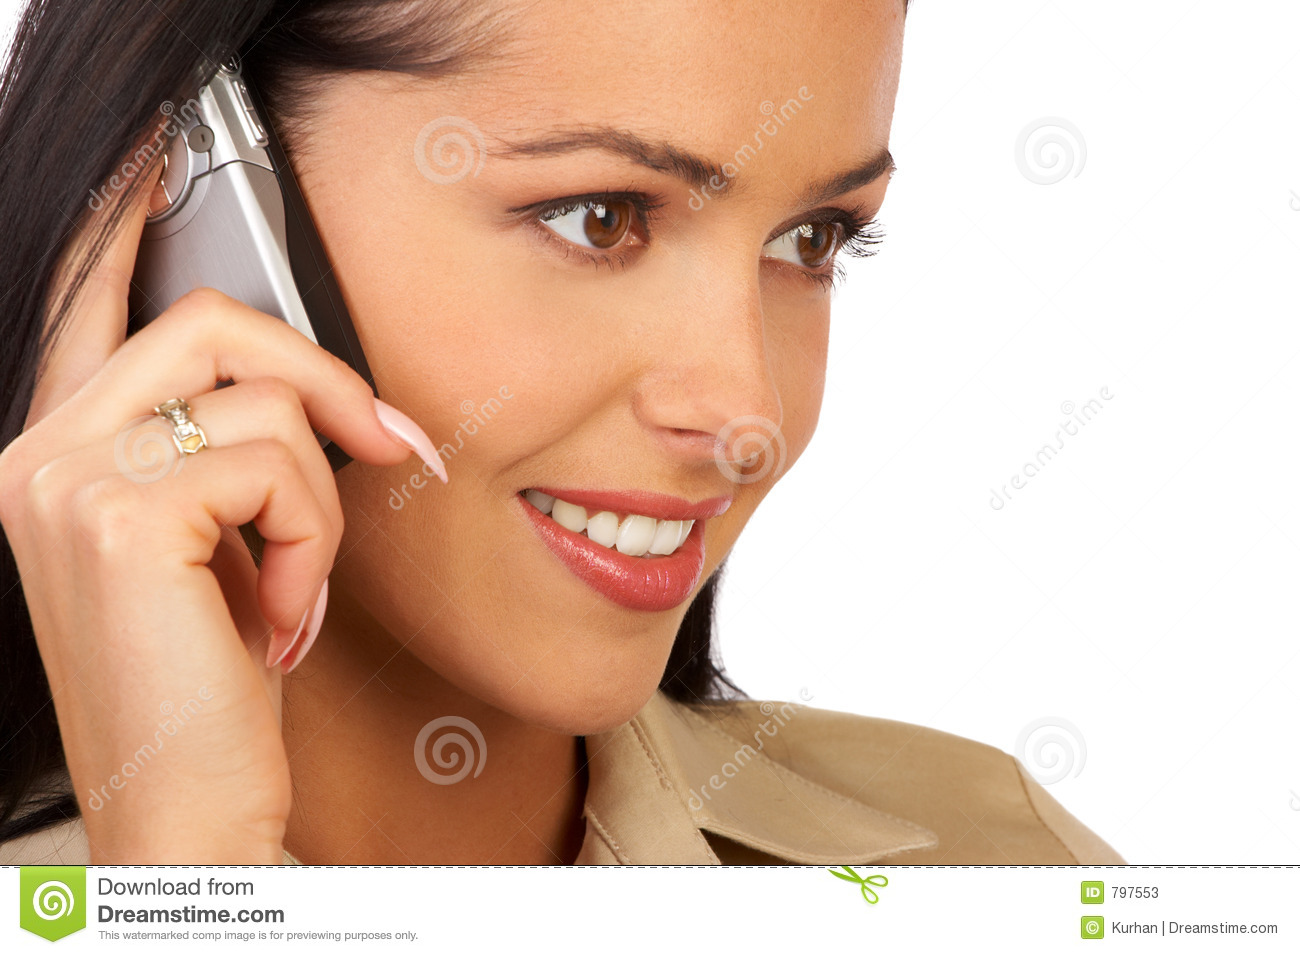phone: (87, 59, 386, 485)
talk: (3, 44, 896, 868)
